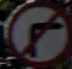Don't turn right: (9, 5, 65, 57)
